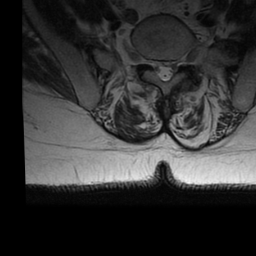CCS_normal: (161, 50, 169, 88)
LFS_stenosis: (176, 49, 185, 73)
LLS_normal: (169, 52, 178, 80)
RFS_stenosis: (143, 48, 152, 72)
RLS_normal: (152, 51, 161, 81)
